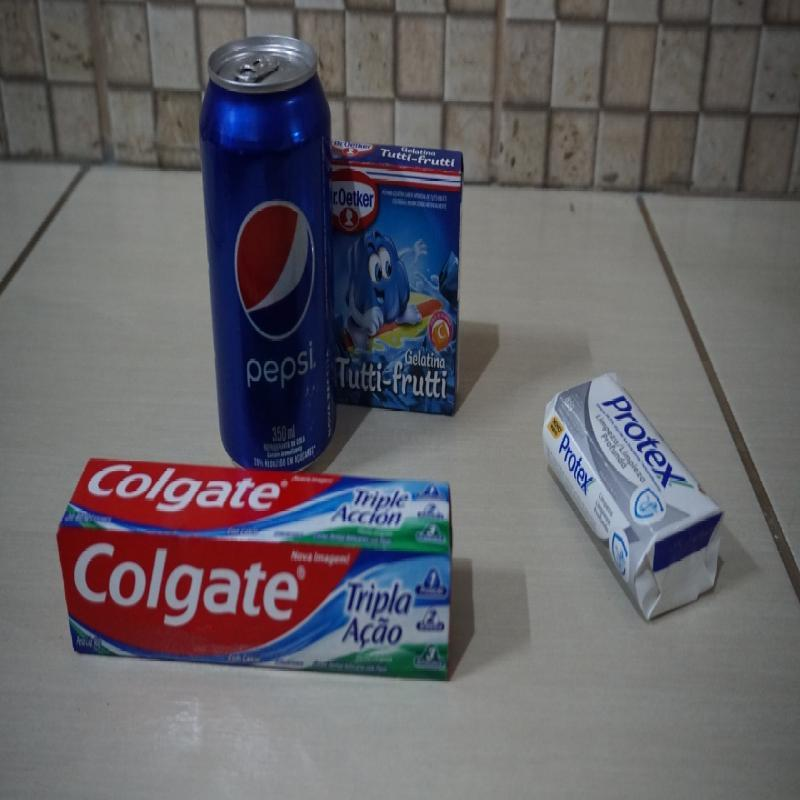Gelatine: (327, 139, 463, 418)
Soap: (543, 372, 725, 624)
Soda can: (197, 32, 337, 477)
Toothpaste: (56, 457, 455, 682)
